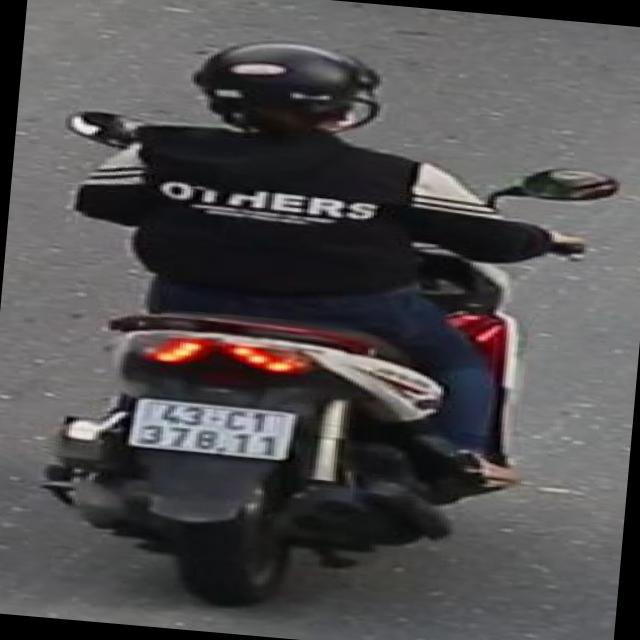LP: (123, 391, 303, 465)
helmet: (180, 27, 394, 146)
